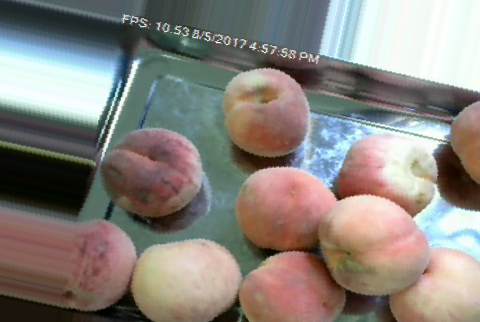Peach: (324, 193, 426, 298), (130, 238, 242, 322), (101, 127, 201, 216), (235, 166, 336, 250), (338, 131, 437, 215), (221, 67, 310, 157), (240, 248, 345, 322), (387, 245, 479, 320)
